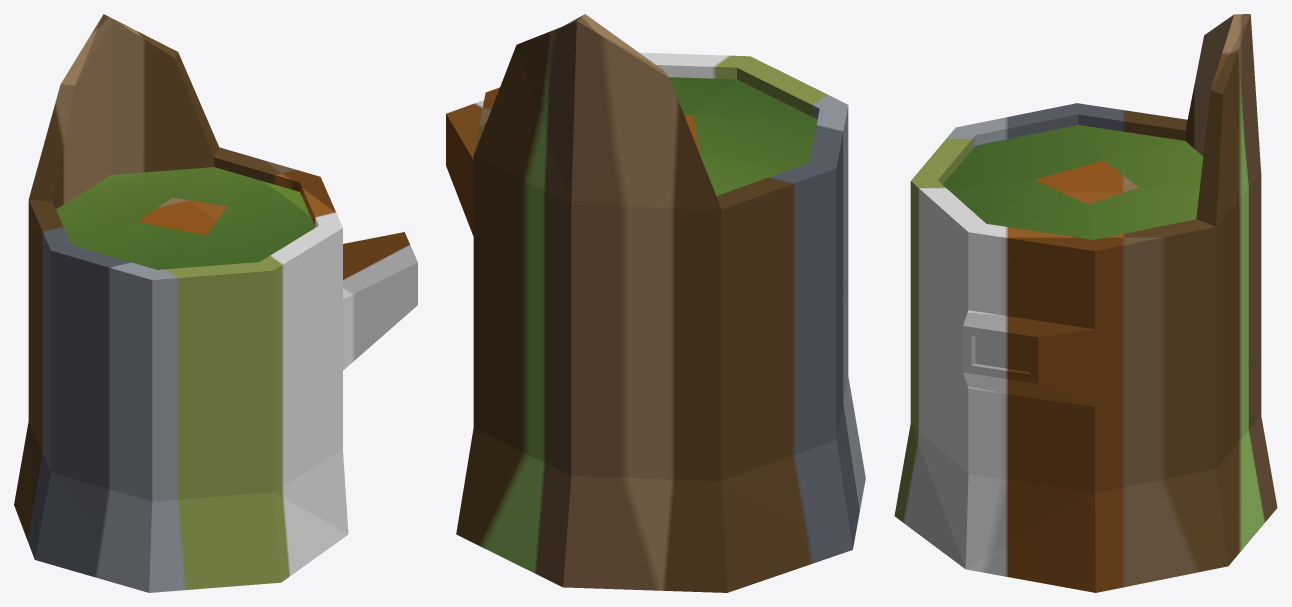
File: Stump_02.fbx
The picture shows the model from 3 angles, left to right: view 1: azimuth 30°, elevation 25°; view 2: azimuth 150°, elevation 25°; view 3: azimuth 270°, elevation 25°; orthographic projection. The views are drawn at different scales.
Parts seen in each view (by area): view 1: Stump_02; view 2: Stump_02; view 3: Stump_02.
Boxes of the visible parts, <box> form: Stump_02: <box>14,14,417,592</box>; Stump_02: <box>446,14,865,592</box>; Stump_02: <box>894,14,1277,592</box>.
Bounding box in the file's own units: 1.56 × 1.93 × 1.35.
